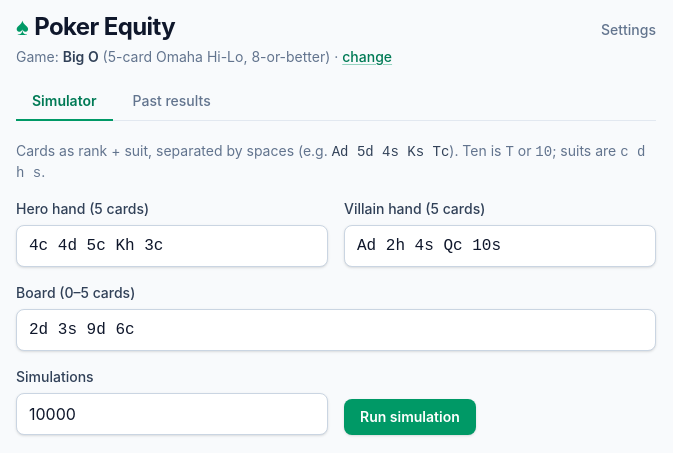
Test case: the past results tab surfaces load failures
The width and height of the screenshot is (673, 453).
Click the tab "Past results": (172, 102) [116, 83, 227, 121]
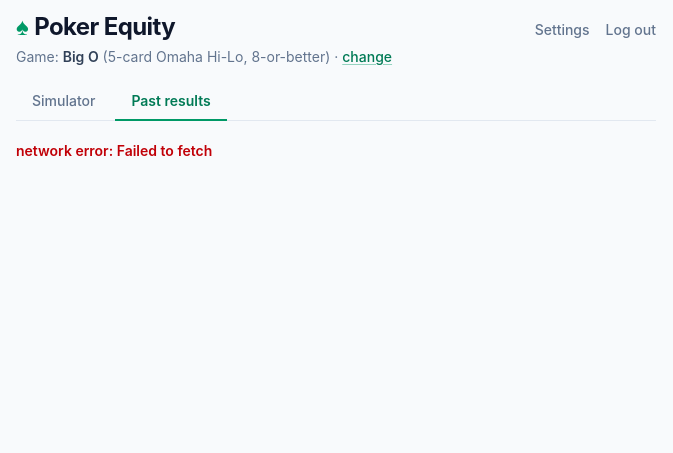
Expected: the text "network error: Failed to fetch" is shown, [16, 142, 212, 159]
